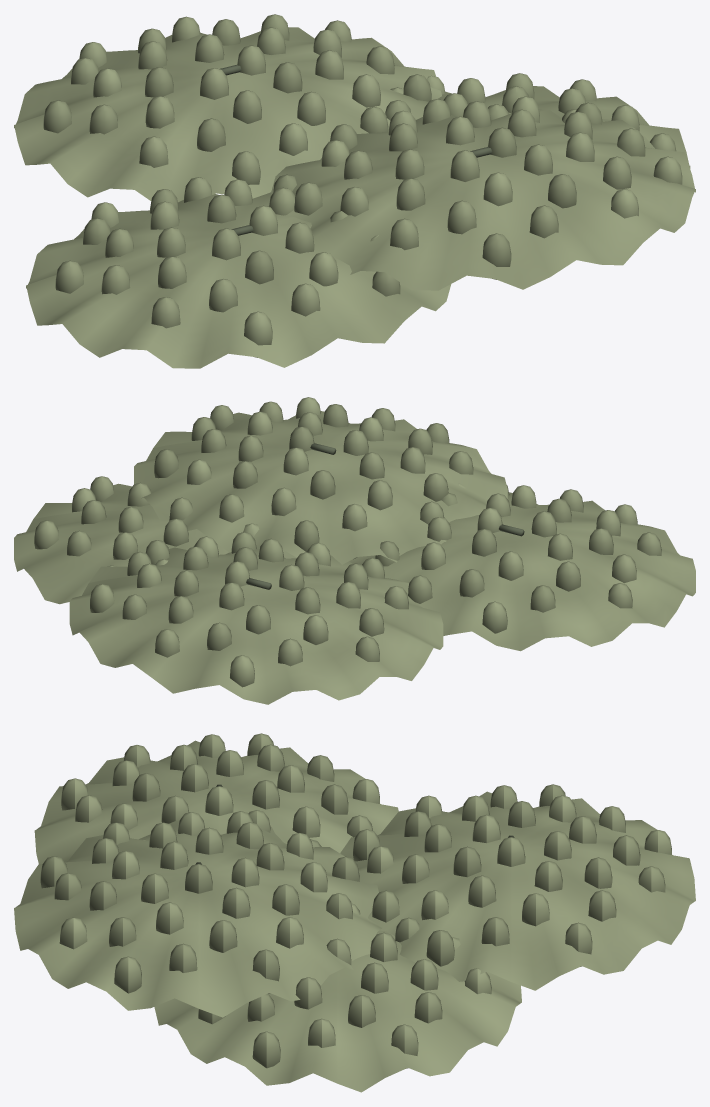
File: ricordea-mobile.glb
3 views of the same model, one above another, from view 1: azimuth 30°, elevation 25°; view 2: azimuth 150°, elevation 25°; view 3: azimuth 270°, elevation 25° (orthographic). The views are drawn at different scales.
Visible parts, largest first — view 1: oral-disc, vesicle; view 2: oral-disc, vesicle, central-mouth; view 3: oral-disc, vesicle.
Boxes of the visible parts, bbox=[...] form: oral-disc: bbox=[14, 27, 695, 368]; vesicle: bbox=[43, 14, 682, 357]; oral-disc: bbox=[14, 411, 695, 704]; vesicle: bbox=[34, 397, 661, 687]; central-mouth: bbox=[246, 443, 524, 589]; oral-disc: bbox=[14, 740, 695, 1092]; vesicle: bbox=[40, 733, 671, 1068].
Size of the model in its own units: 0.5632 by 0.0985 by 0.5079.
